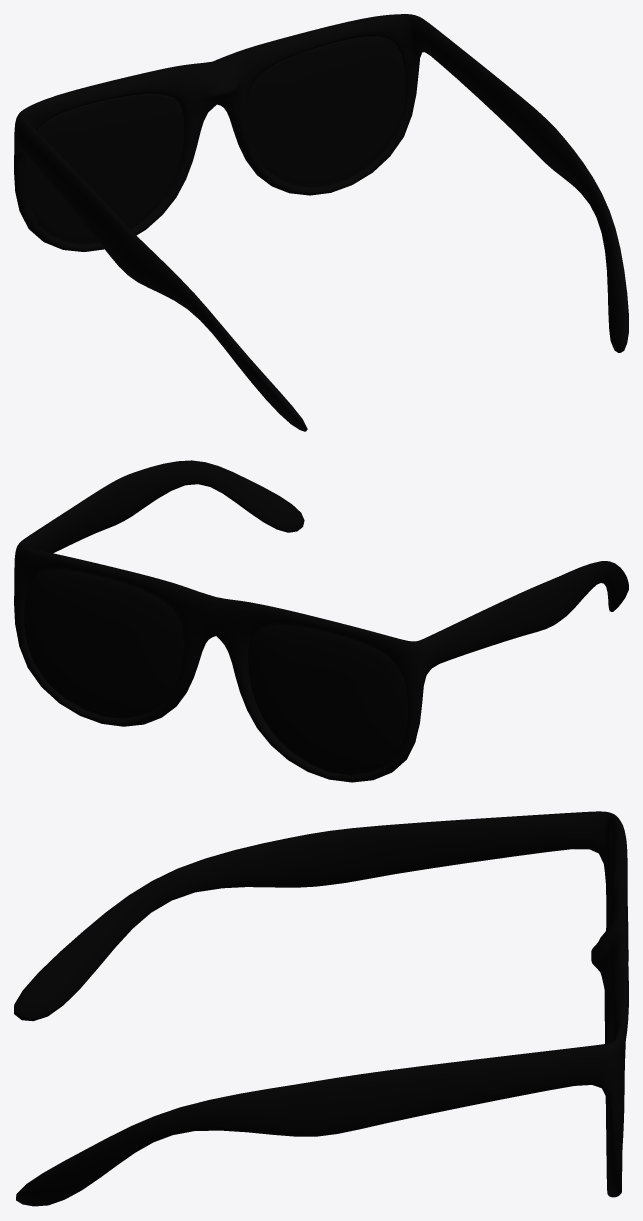
File: glasses1.fbx
3 views of the same model, one above another, from view 1: azimuth 30°, elevation 25°; view 2: azimuth 150°, elevation 25°; view 3: azimuth 270°, elevation 25° (orthographic). The views are drawn at different scales.
Visible parts, largest first — view 1: node_id6, node_id9; view 2: node_id9, node_id6; view 3: node_id6.
Boxes of the visible parts, box(x1,y1,x2,y2) form: node_id6: box(14, 14, 628, 431); node_id9: box(26, 36, 405, 244); node_id9: box(24, 570, 408, 774); node_id6: box(14, 460, 628, 782); node_id6: box(14, 811, 628, 1206).
Bounding box in the file's own units: 0.5088 × 0.1814 × 0.5158.
Materials: 2 (2 with a texture image).
